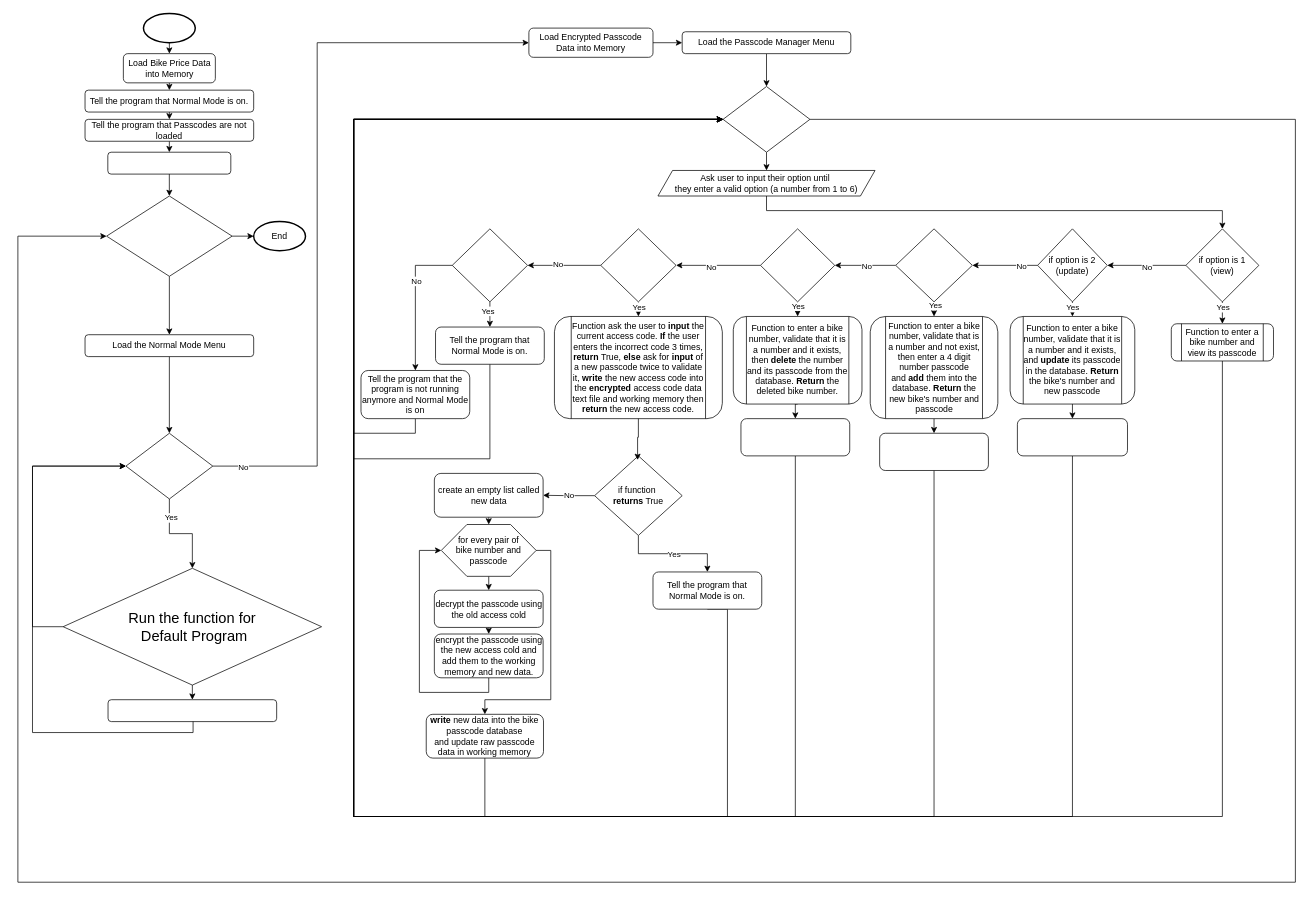
Some shapes in this 1314 by 901 pixel diagram are drawn without their labels. The shapes that lost their labels are listed below. From the top down, each one's centre as x and y in pixels, then its label:
the point at 169,27: Start
the point at 766,119: while Normal Mode is off
the point at 169,162: Load hash of the Access Code into Memory
the point at 169,235: Tell the Program to run continuously (while True)
the point at 490,265: if option is 6 (exit passcode manager)
the point at 638,265: if option is 5 (change access code)
the point at 797,265: if option is 4 (delete)
the point at 933,265: if option is 3 (create)
the point at 795,437: Remove the number and its passcode from the working memory
the point at 933,451: Add the new bike number and passcode into the working memory
the point at 1072,437: Update the bike passcode into the working memory
the point at 169,466: while Normal Mode is on
the point at 192,710: Tell the program that Normal Mode is off
